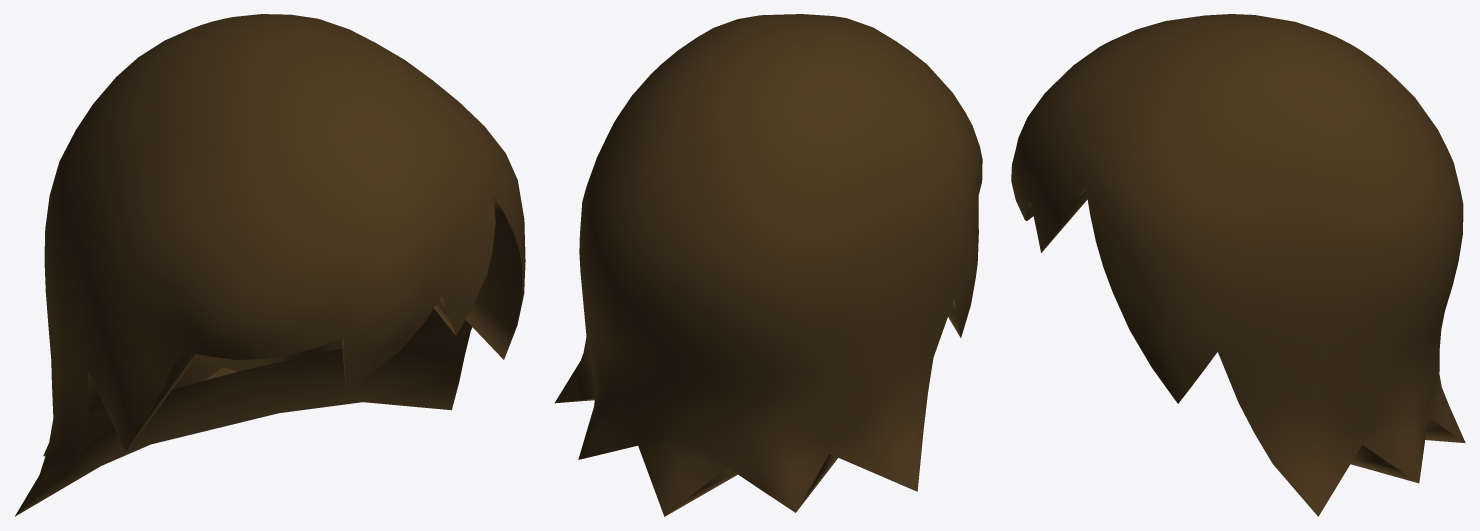
Rendered from hair_hair_053.gltf.
3 views of the same model, side by side, from view 1: azimuth 30°, elevation 25°; view 2: azimuth 150°, elevation 25°; view 3: azimuth 270°, elevation 25° (orthographic). The views are drawn at different scales.
Parts seen in each view (by area): view 1: hair.053; view 2: hair.053; view 3: hair.053.
Part boxes in pixels (left/top/right/bottom): hair.053: left=15, top=14, right=525, bottom=516; hair.053: left=554, top=14, right=982, bottom=516; hair.053: left=1011, top=14, right=1465, bottom=516.
Size of the model in its own units: 0.7558 by 0.7939 by 0.7954.
